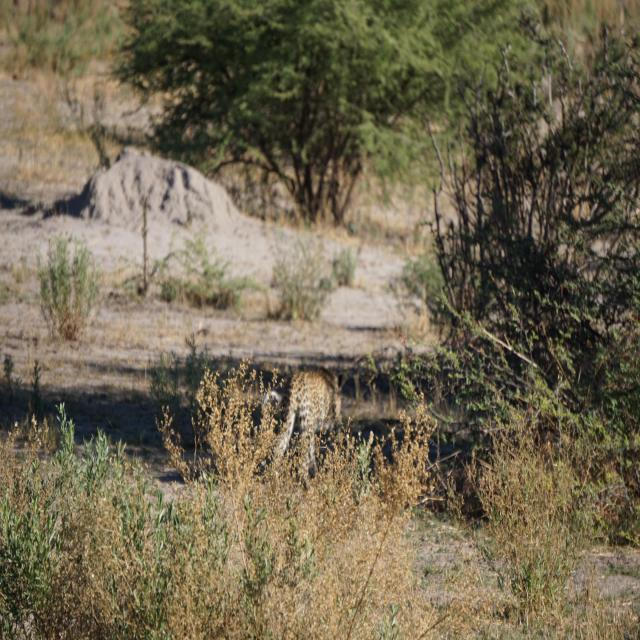Leopard: (256, 359, 353, 488)
